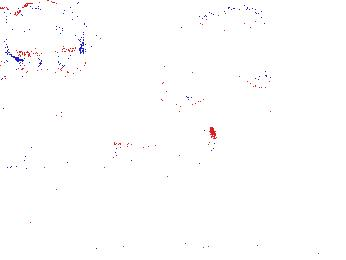moon jellyfish: (162, 9, 266, 111), (113, 125, 216, 178), (3, 1, 83, 59), (1, 85, 36, 171)
